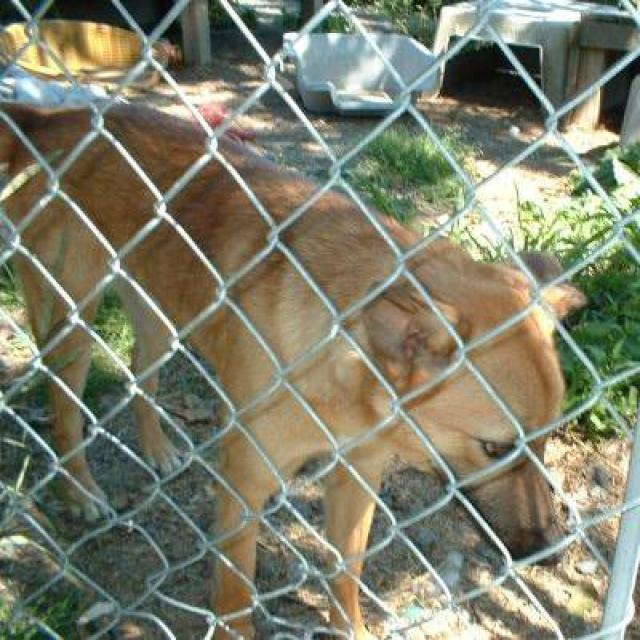dog: (0, 87, 589, 638)
